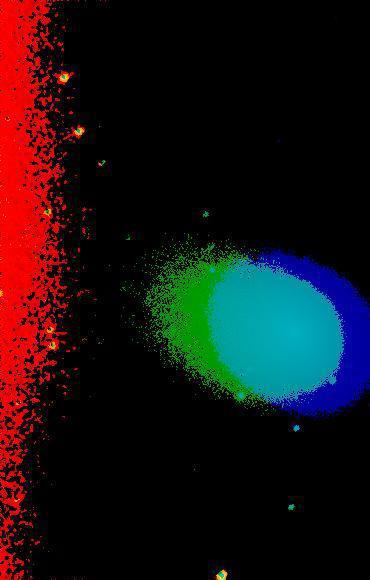star: (128, 441, 158, 471)
